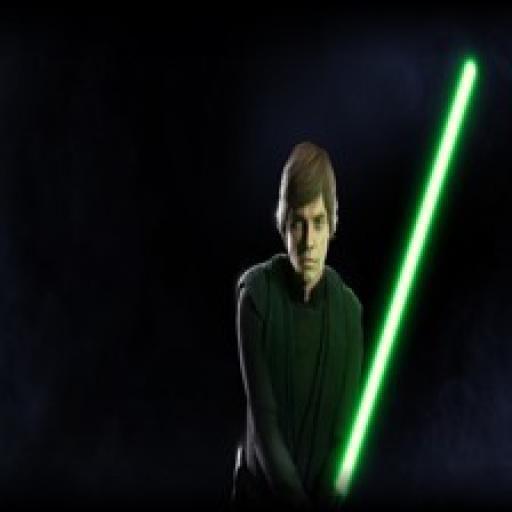human: (223, 143, 371, 512)
lightsaber: (312, 49, 486, 512)
